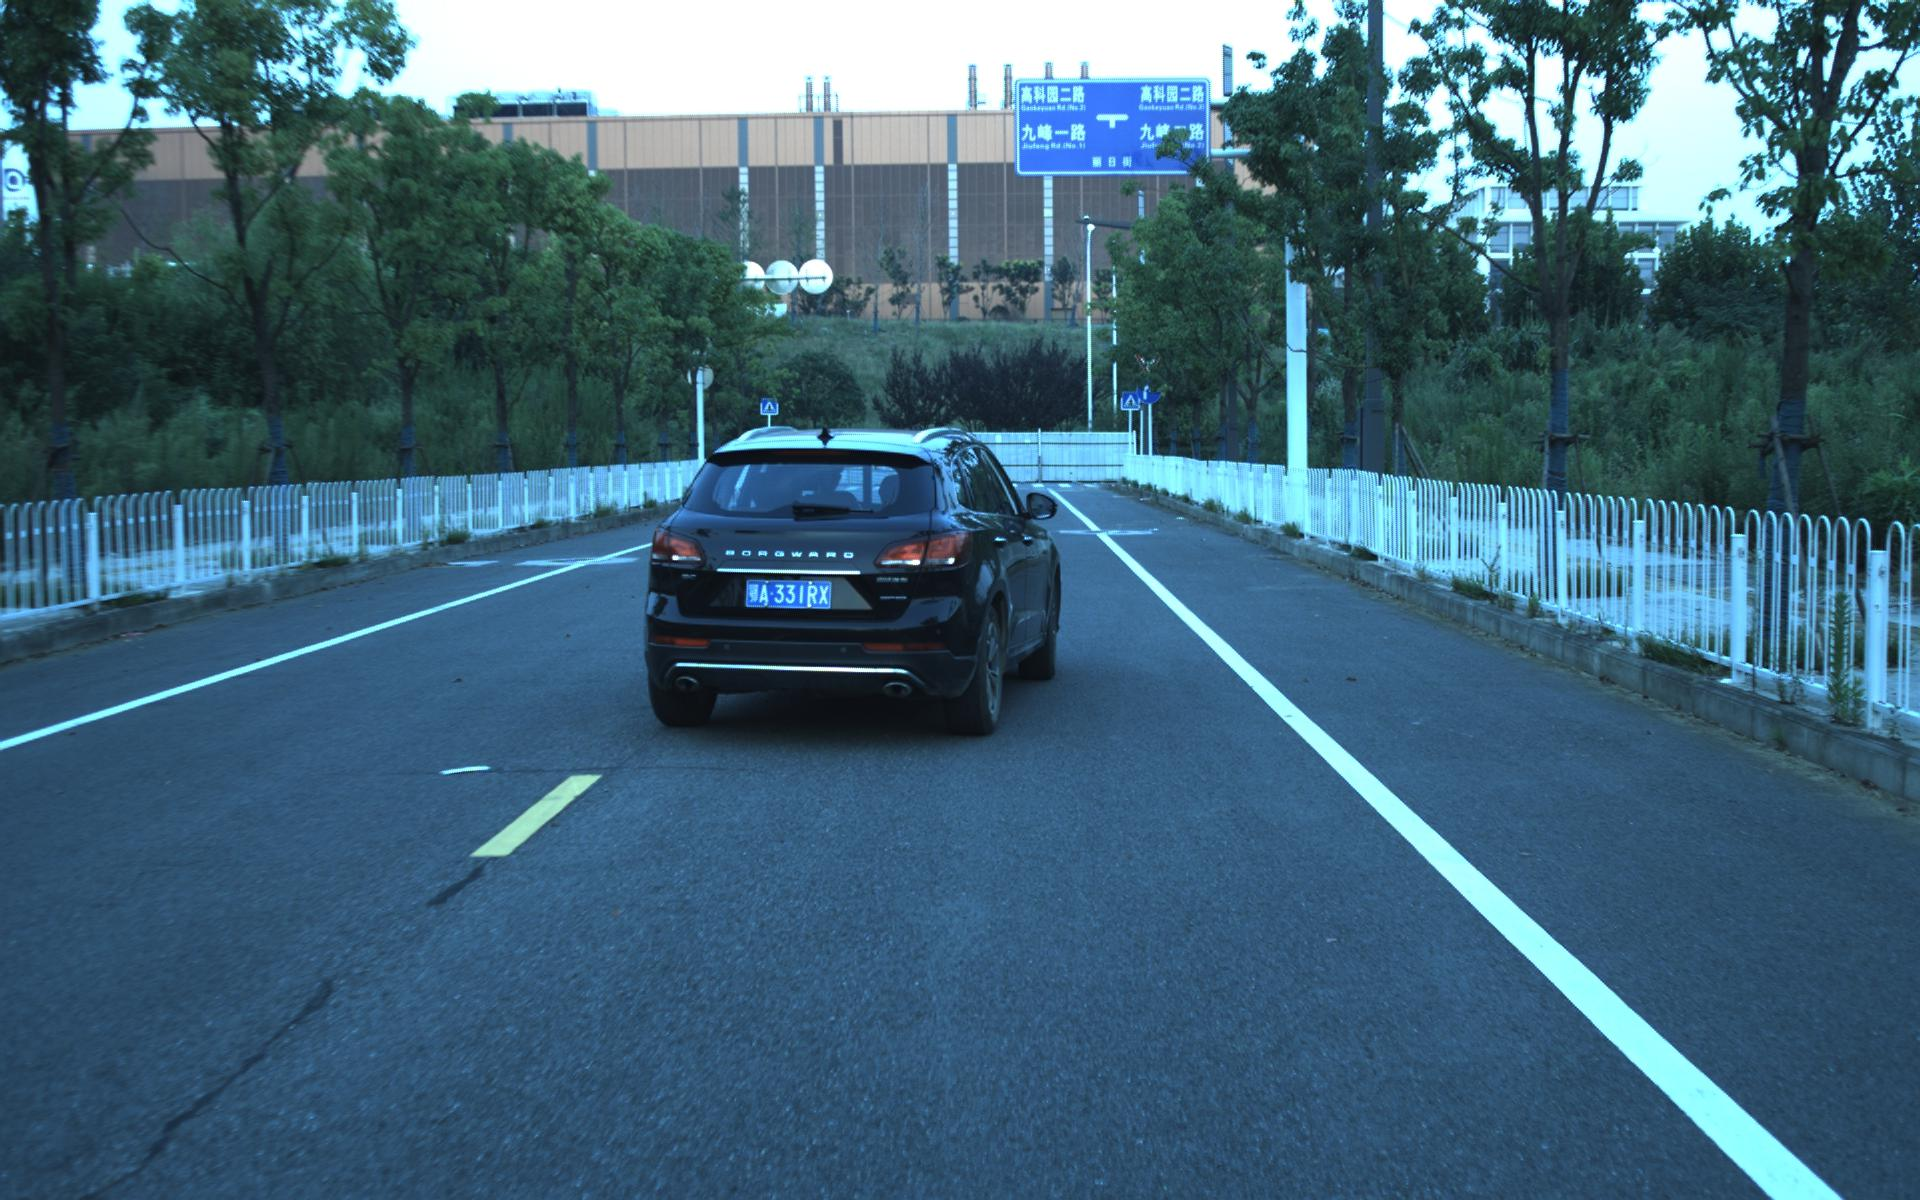Car: (628, 413, 1069, 748)
